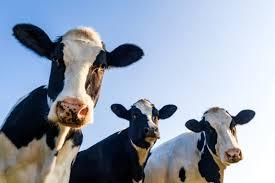cow: (0, 24, 144, 183), (68, 99, 177, 183), (143, 108, 254, 183)
